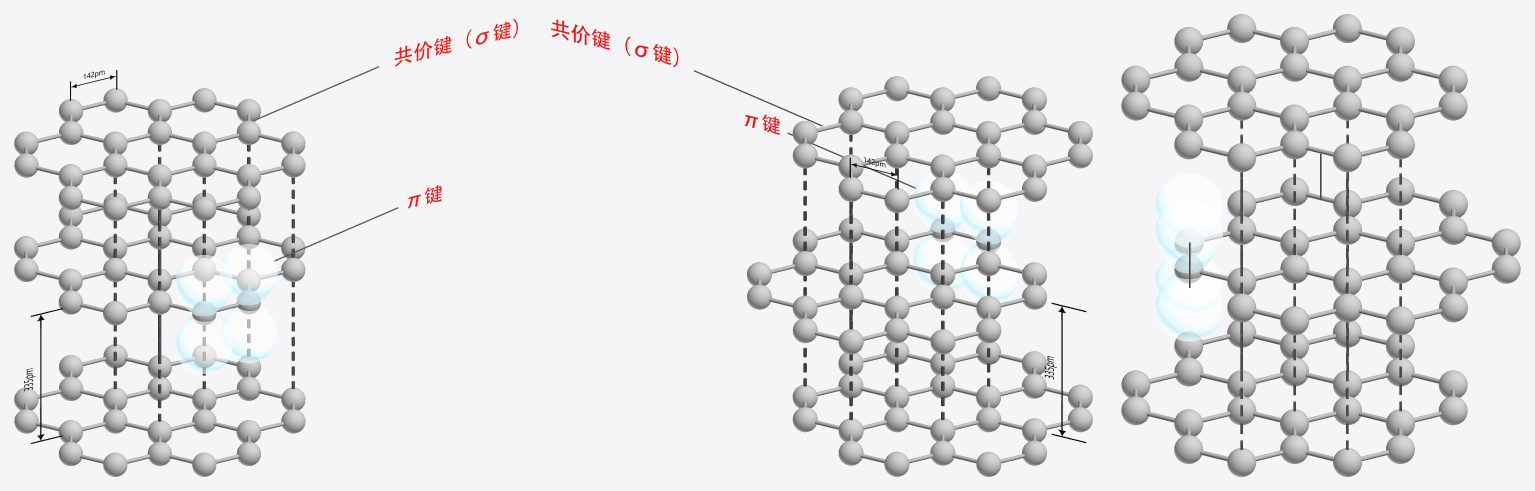
3 views of the same model, side by side, from view 1: azimuth 30°, elevation 25°; view 2: azimuth 150°, elevation 25°; view 3: azimuth 270°, elevation 25° (orthographic). The views are drawn at different scales.
Visible parts, largest first — view 1: qiu, qiu_pai, yuanzhu, cube, gjj; view 2: qiu, qiu_pai, yuanzhu, cube, gjj; view 3: qiu, yuanzhu, qiu_pai, cube.
Boxes of the visible parts, box(x1,y1,x2,y2) form: qiu: box(14, 88, 305, 476); qiu_pai: box(175, 244, 277, 373); yuanzhu: box(24, 101, 295, 463); cube: box(113, 145, 294, 421); gjj: box(394, 19, 517, 66); qiu: box(746, 76, 1092, 476); qiu_pai: box(913, 172, 1018, 301); yuanzhu: box(757, 89, 1082, 463); cube: box(803, 134, 990, 420); gjj: box(551, 19, 678, 66); qiu: box(1121, 14, 1520, 476); yuanzhu: box(1133, 29, 1508, 461); qiu_pai: box(1154, 174, 1223, 341); cube: box(1240, 120, 1401, 449).
Bounding box in the file's own units: 188 × 109 × 107.
8 materials, 4 textured.
